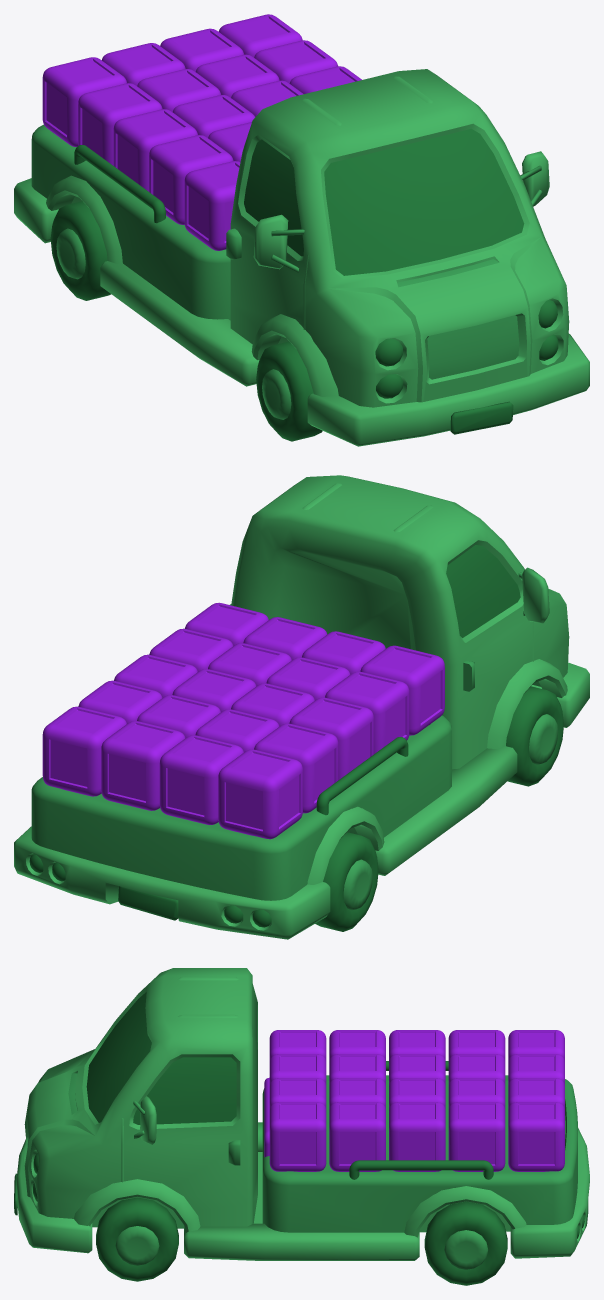
Rendered from Green-Truck.fbx.
3 views of the same model, one above another, from view 1: azimuth 30°, elevation 25°; view 2: azimuth 150°, elevation 25°; view 3: azimuth 270°, elevation 25° (orthographic). The views are drawn at different scales.
Parts seen in each view (by area): view 1: Truck, Till, Wheel_2A_R.R, Box.002, Box.018, Box.017, Box.009, Box.010, Box.005, Box.006, Box.007, Box.003 (+7 smaller); view 2: Truck, Till, Wheel_2A_R.R, Box.002, Box.003, Box.005, Box.004, Box.018, Box.009, Box.017, Box.010, Box.007 (+12 smaller); view 3: Truck, Till, Wheel_2A_R.R, Box.021, Box.005, Box.014, Box.006, Box.013, Handle_02, Box.007, Box.008, Box.009 (+13 smaller).
Part boxes in pixels (bbox=[...]): Truck: bbox=[14, 69, 589, 446]; Till: bbox=[31, 124, 230, 320]; Wheel_2A_R.R: bbox=[50, 201, 322, 441]; Box.002: bbox=[42, 57, 126, 146]; Box.018: bbox=[184, 161, 240, 250]; Box.017: bbox=[149, 135, 233, 224]; Box.009: bbox=[78, 83, 162, 165]; Box.010: bbox=[113, 109, 197, 191]; Box.005: bbox=[218, 14, 302, 57]; Box.006: bbox=[254, 40, 337, 83]; Box.007: bbox=[195, 54, 279, 97]; Box.003: bbox=[102, 43, 185, 85]; Truck: bbox=[14, 475, 589, 939]; Till: bbox=[31, 715, 451, 900]; Wheel_2A_R.R: bbox=[315, 686, 563, 931]; Box.002: bbox=[218, 749, 302, 839]; Box.003: bbox=[159, 735, 243, 824]; Box.005: bbox=[42, 706, 126, 796]; Box.004: bbox=[101, 721, 185, 810]; Box.018: bbox=[360, 645, 444, 735]; Box.009: bbox=[254, 723, 338, 813]; Box.017: bbox=[325, 671, 409, 753]; Box.010: bbox=[289, 697, 373, 779]; Box.007: bbox=[137, 695, 220, 737]; Truck: bbox=[14, 968, 589, 1260]; Till: bbox=[262, 1075, 577, 1232]; Wheel_2A_R.R: bbox=[96, 1197, 507, 1285]; Box.021: bbox=[269, 1102, 326, 1171]; Box.005: bbox=[508, 1102, 564, 1171]; Box.014: bbox=[329, 1102, 385, 1171]; Box.006: bbox=[448, 1102, 505, 1171]; Box.013: bbox=[389, 1102, 445, 1171]; Handle_02: bbox=[349, 1160, 493, 1179]; Box.007: bbox=[448, 1078, 505, 1109]; Box.008: bbox=[448, 1054, 505, 1085]; Box.009: bbox=[448, 1030, 505, 1061].
Size of the model in its own units: 2.76 by 2.48 by 5.56.
